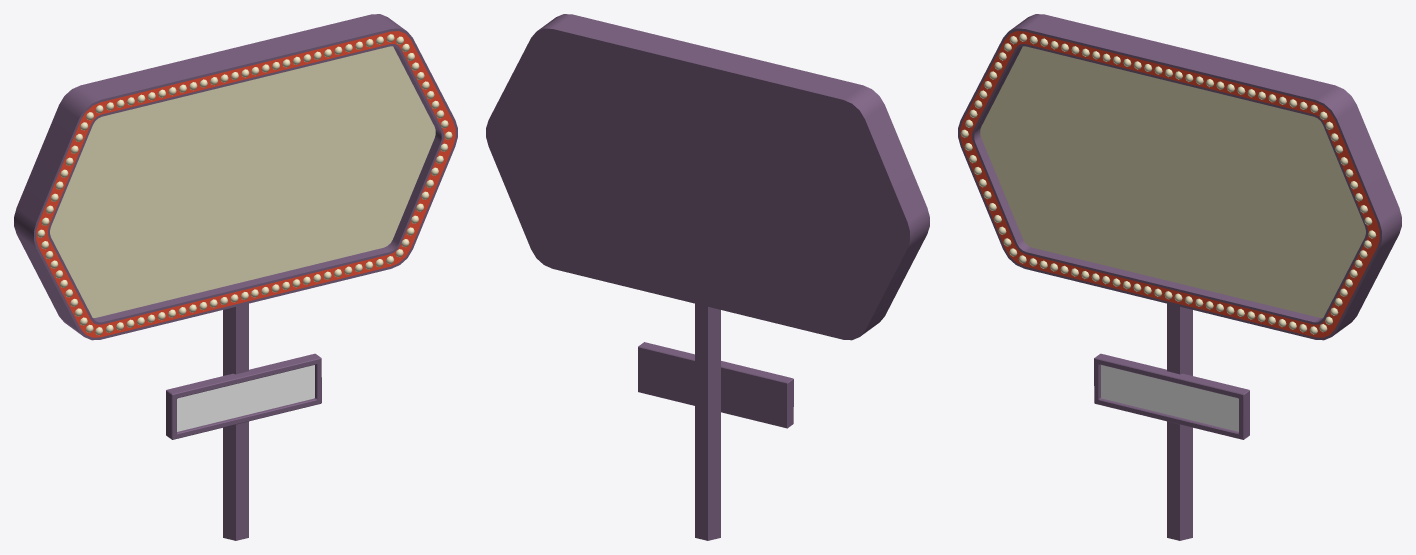
The model's file is Ad_Board_07.fbx.
3 views of the same model, side by side, from view 1: azimuth 30°, elevation 25°; view 2: azimuth 150°, elevation 25°; view 3: azimuth 330°, elevation 25° (orthographic).
Parts seen in each view (by area): view 1: polySurface30, Poster, Pole_07; view 2: polySurface30, Poster, Pole_07; view 3: polySurface30, Poster, Pole_07.
Part boxes in pixels (x1,y1,x2,y2): polySurface30: (14, 14, 457, 340); Poster: (166, 353, 321, 439); Pole_07: (223, 303, 248, 540); polySurface30: (486, 14, 929, 340); Poster: (638, 342, 793, 428); Pole_07: (695, 303, 720, 540); polySurface30: (958, 14, 1401, 340); Poster: (1094, 353, 1249, 439); Pole_07: (1167, 303, 1192, 540).
Bounding box in the file's own units: 6.68 × 7.18 × 0.5955.
Materials: 1 (1 with a texture image).
